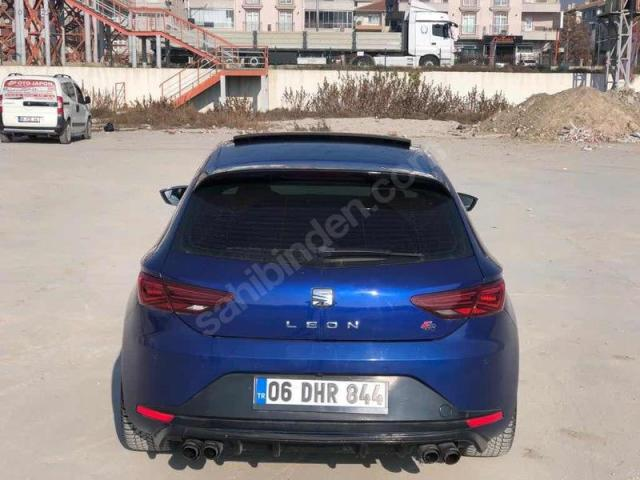plaka: (253, 375, 387, 413)
